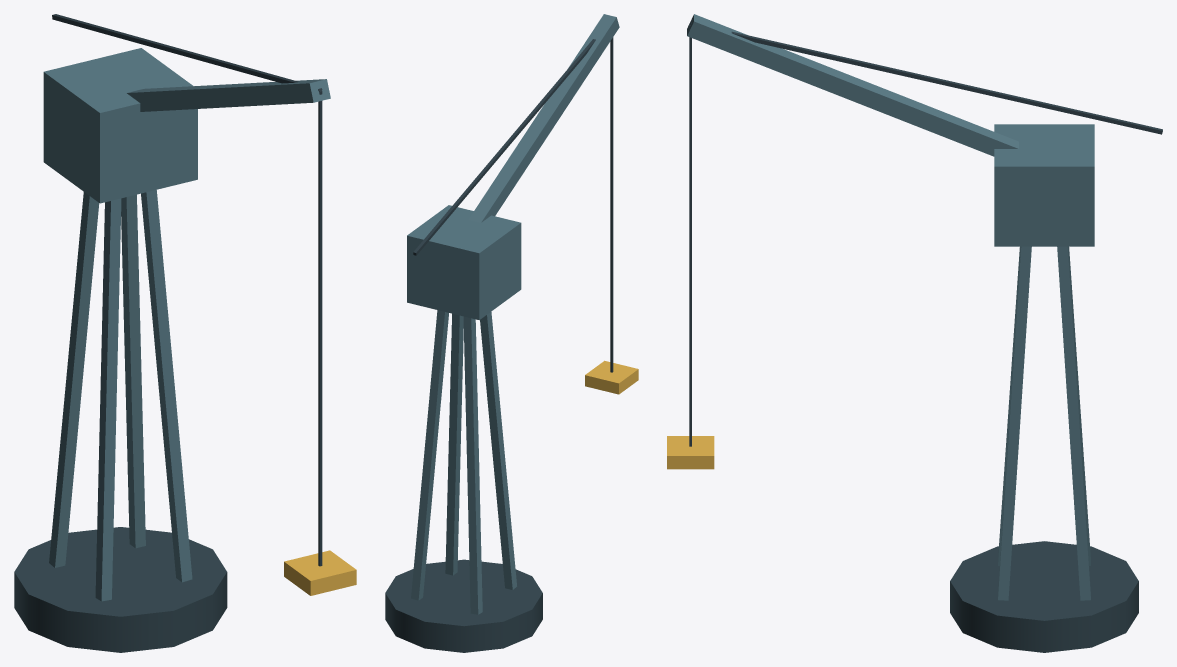
Rendered from harbor-crane.glb.
3 views of the same model, side by side, from view 1: azimuth 30°, elevation 25°; view 2: azimuth 150°, elevation 25°; view 3: azimuth 270°, elevation 25° (orthographic). The views are drawn at different scales.
Visible parts, largest first — view 1: harbor-crane (×10); view 2: harbor-crane (×10); view 3: harbor-crane (×10).
Boxes of the visible parts, bbox=[...] form: harbor-crane (×10): bbox=[14, 14, 356, 652]; harbor-crane (×10): bbox=[385, 14, 638, 652]; harbor-crane (×10): bbox=[667, 14, 1162, 652].
Size of the model in its own units: 3.2 by 11.14 by 8.41.
